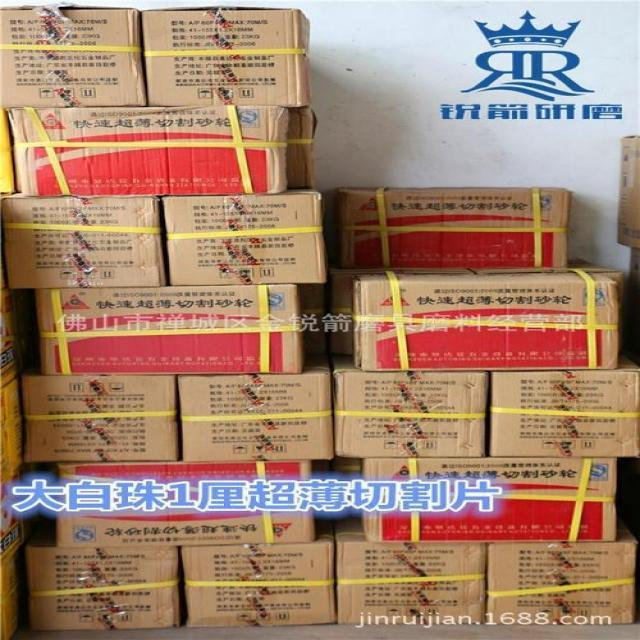box: (347, 258, 632, 378), (6, 99, 327, 192), (38, 290, 317, 376), (364, 454, 626, 544), (53, 460, 324, 547), (325, 187, 582, 271), (329, 520, 488, 630), (150, 5, 308, 110), (0, 185, 157, 290), (156, 194, 324, 290), (16, 362, 180, 460), (316, 365, 482, 460), (0, 2, 151, 106), (163, 372, 335, 462), (180, 538, 347, 630), (26, 534, 180, 632), (478, 367, 640, 459), (485, 536, 640, 632)
